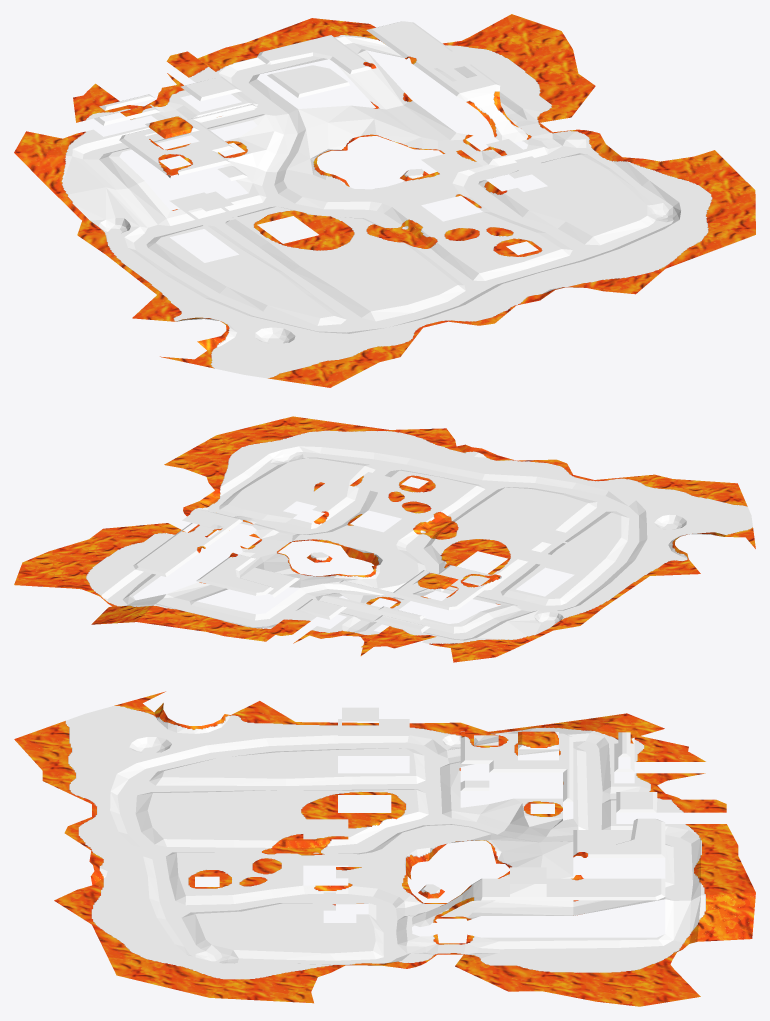
The model's file is pollution00.dae.
The picture shows the model from 3 angles, top to bottom: view 1: azimuth 30°, elevation 25°; view 2: azimuth 150°, elevation 25°; view 3: azimuth 270°, elevation 25°; orthographic projection. The views are drawn at different scales.
Parts seen in each view (by area): view 1: m0, m0_1; view 2: m0, m0_1; view 3: m0, m0_1.
Part boxes in pixels (x1,y1,x2,y2): m0: [61, 21, 746, 378]; m0_1: [14, 14, 755, 387]; m0: [86, 430, 752, 643]; m0_1: [14, 416, 755, 662]; m0: [65, 706, 705, 999]; m0_1: [14, 691, 755, 1006].
Size of the model in its own units: 18240 by 1650 by 18130.
